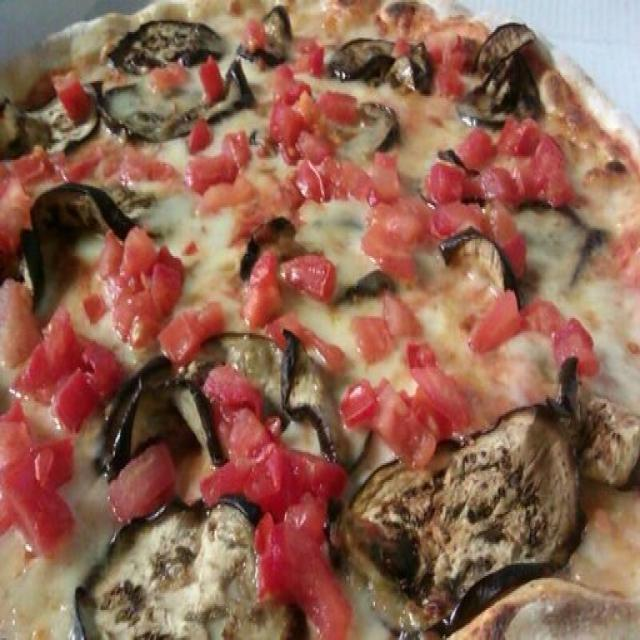Eggplant: (352, 430, 578, 592), (82, 516, 306, 640), (223, 326, 327, 412), (123, 368, 214, 450), (106, 76, 248, 128), (442, 223, 516, 300), (17, 186, 134, 232), (484, 30, 537, 119), (114, 24, 230, 62), (331, 32, 403, 81), (0, 107, 71, 151), (362, 100, 397, 155), (257, 12, 293, 60), (28, 232, 50, 307)
Pizza: (8, 9, 640, 640)
Tomato: (223, 412, 344, 628), (347, 289, 475, 420), (421, 128, 572, 202), (470, 300, 600, 370), (348, 163, 424, 281), (275, 68, 345, 196), (0, 415, 67, 545), (37, 321, 101, 426), (178, 132, 257, 209), (112, 238, 175, 331), (249, 260, 283, 320), (280, 262, 326, 293)
